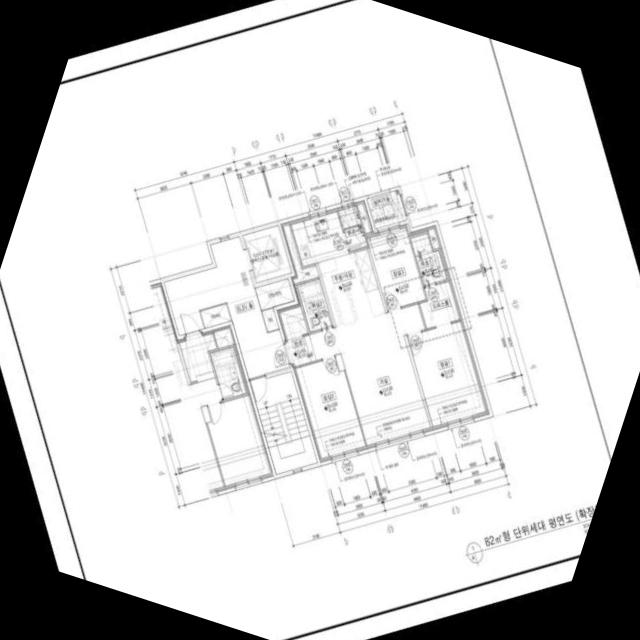background: (0, 0, 640, 640)
space_balconi: (338, 203, 361, 229), (345, 225, 367, 251)
space_bedroom: (408, 320, 490, 430), (294, 357, 367, 462), (366, 225, 427, 310)
space_dressroom: (419, 280, 462, 329)
space_elevator: (242, 225, 292, 283)
space_elevator_hall: (164, 236, 290, 379)
space_front: (277, 303, 317, 367)
space_kitchen: (290, 208, 386, 328)
space_living_room: (309, 304, 432, 449)
space_other: (207, 395, 274, 489), (283, 222, 319, 284), (367, 190, 407, 229), (356, 200, 373, 234), (214, 328, 234, 349), (427, 225, 442, 249)
space_staircase: (250, 371, 318, 475)
space_toilet: (410, 233, 448, 286), (210, 347, 247, 401), (296, 279, 333, 332)
